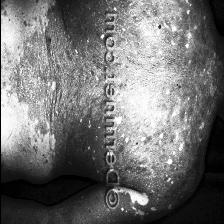Non-Cancerous Skin Condition: (130, 0, 202, 171), (0, 0, 60, 159)
